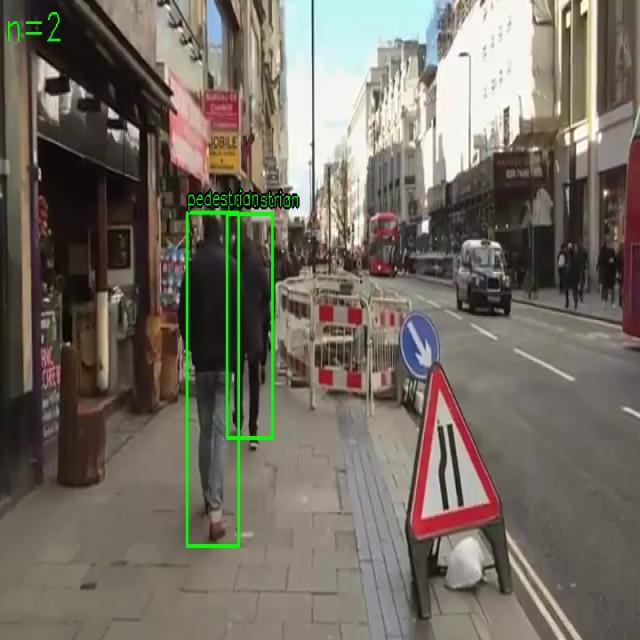with scooter: (187, 212, 239, 547), (227, 213, 273, 439)
